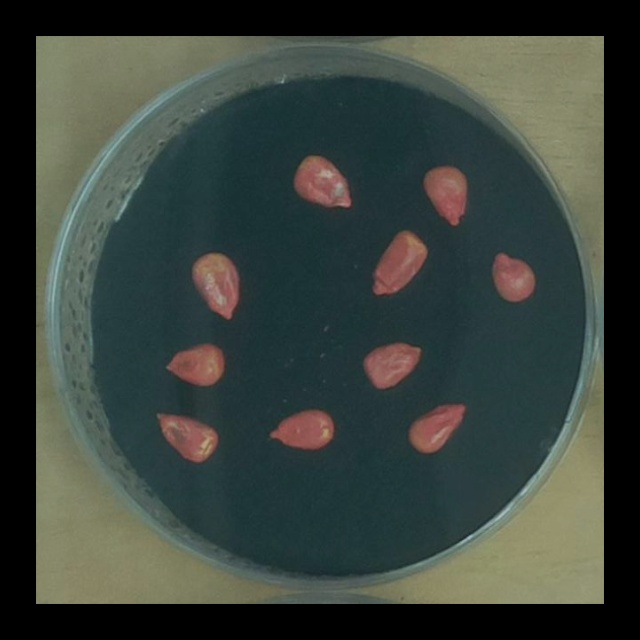Zea mays: (364, 223, 435, 302), (148, 403, 225, 468), (184, 246, 246, 326), (287, 147, 357, 214), (402, 394, 472, 458), (356, 334, 427, 395), (417, 160, 475, 233), (157, 335, 232, 391), (264, 402, 341, 455), (485, 242, 541, 307)
